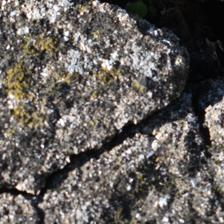Crack: (0, 57, 79, 155), (23, 117, 64, 224)
